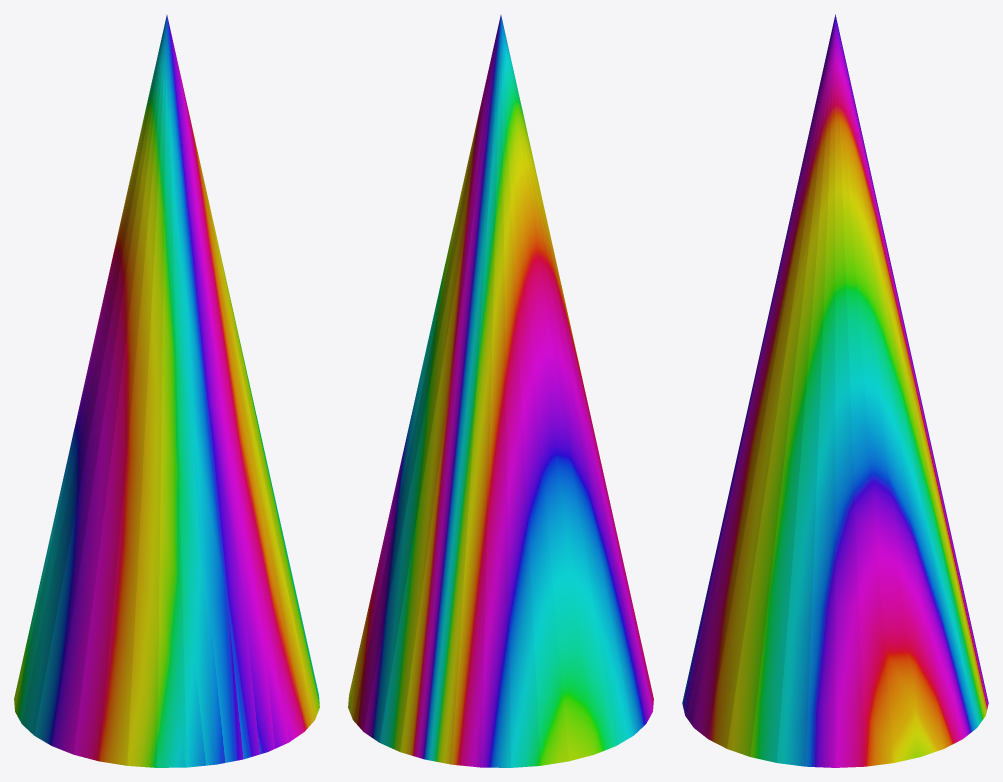
File: Cleardelta.obj
3 views of the same model, side by side, from view 1: azimuth 30°, elevation 25°; view 2: azimuth 150°, elevation 25°; view 3: azimuth 270°, elevation 25° (orthographic).
Parts seen in each view (by area): view 1: 円錐; view 2: 円錐; view 3: 円錐.
Boxes of the visible parts, x1=… form: 円錐: x1=14, y1=15, x2=319, y2=767; 円錐: x1=348, y1=15, x2=653, y2=767; 円錐: x1=682, y1=14, x2=988, y2=767.
Bounding box in the file's own units: 2 × 4.96 × 2.
1 material, 1 textured.
